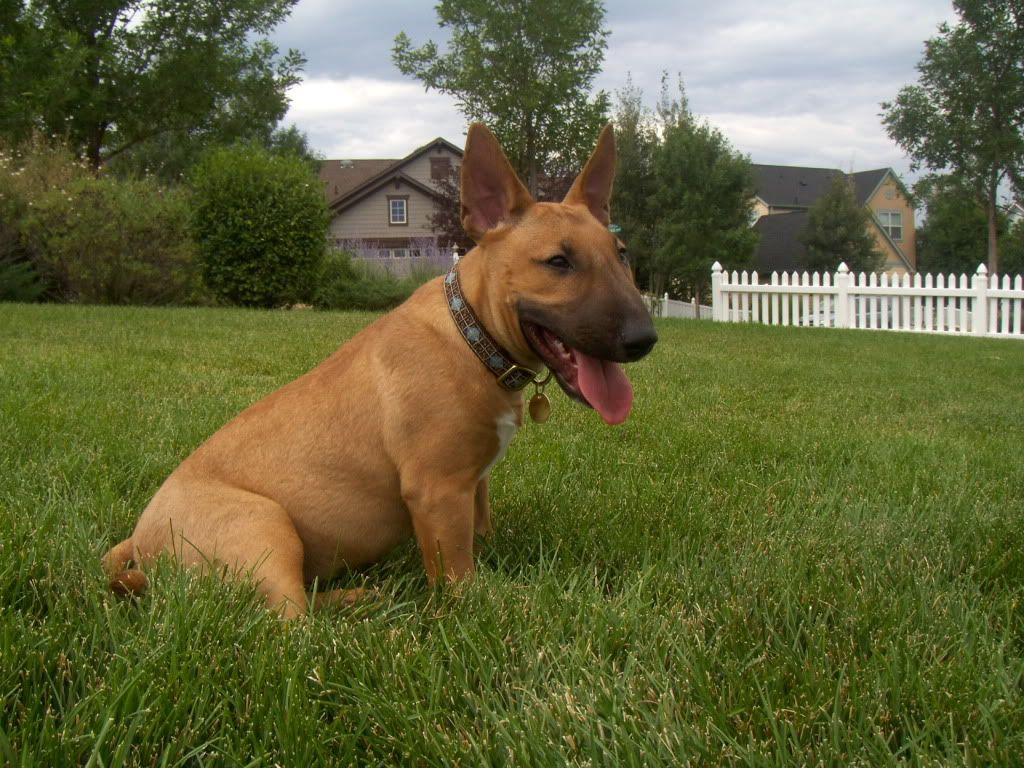bull_terrier: (99, 118, 659, 626)
